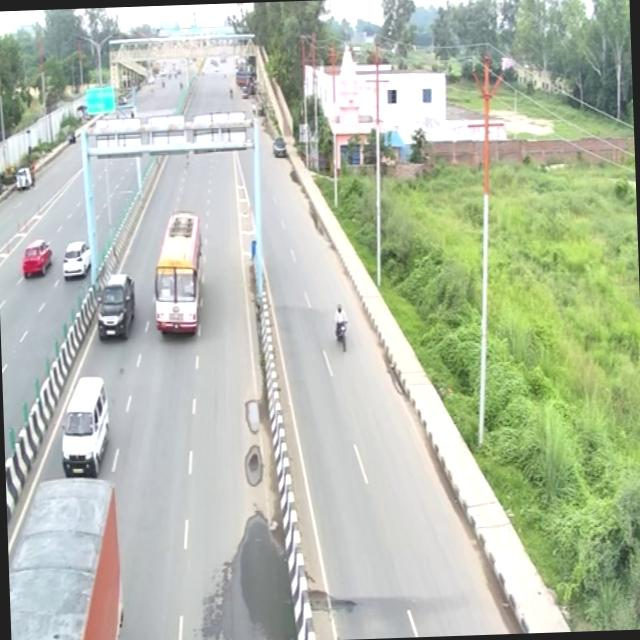car: (52, 370, 118, 475), (90, 266, 136, 340), (16, 235, 54, 280), (58, 236, 92, 281)
